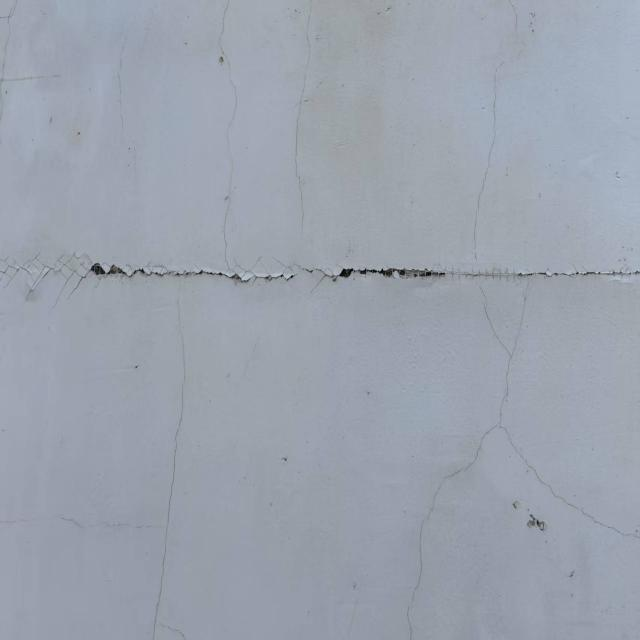crack: (401, 280, 637, 637), (147, 281, 189, 630), (471, 57, 504, 257), (217, 5, 241, 266), (291, 4, 313, 233), (0, 250, 93, 300)
spalling: (90, 258, 448, 287), (518, 266, 640, 282)
